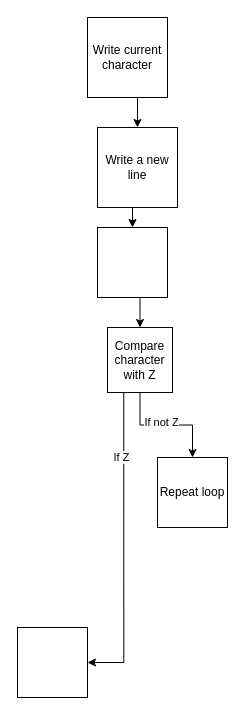
Image size: 245x715. Some labels were removed from this diagram. Here are the shapes that lost their labels. From the top down, the centre of each, then its label:
point (132, 262): Increment the character
point (52, 662): Exit program
